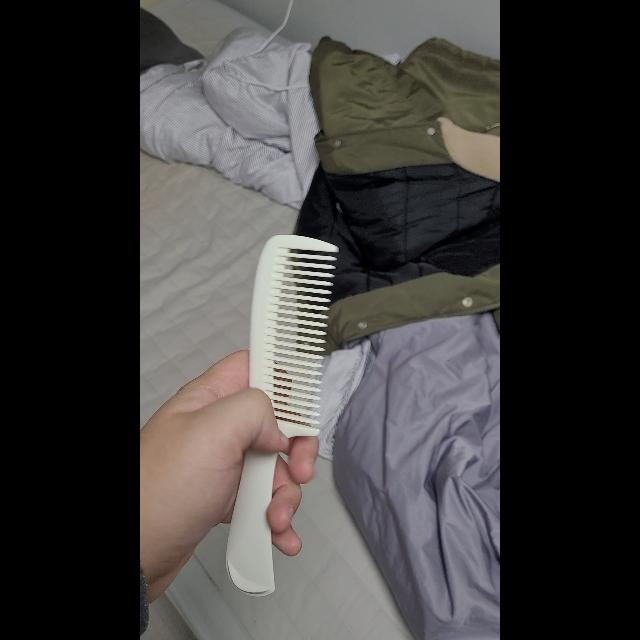COMB: (225, 234, 338, 596)
